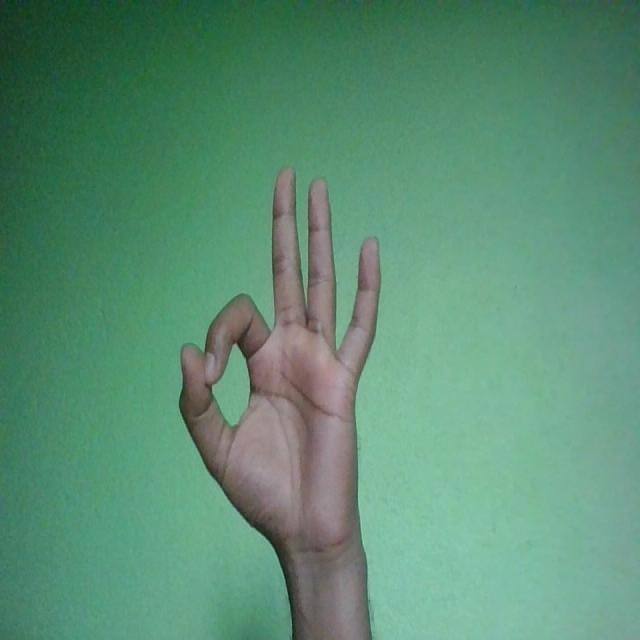Rock On: (178, 162, 382, 565)
